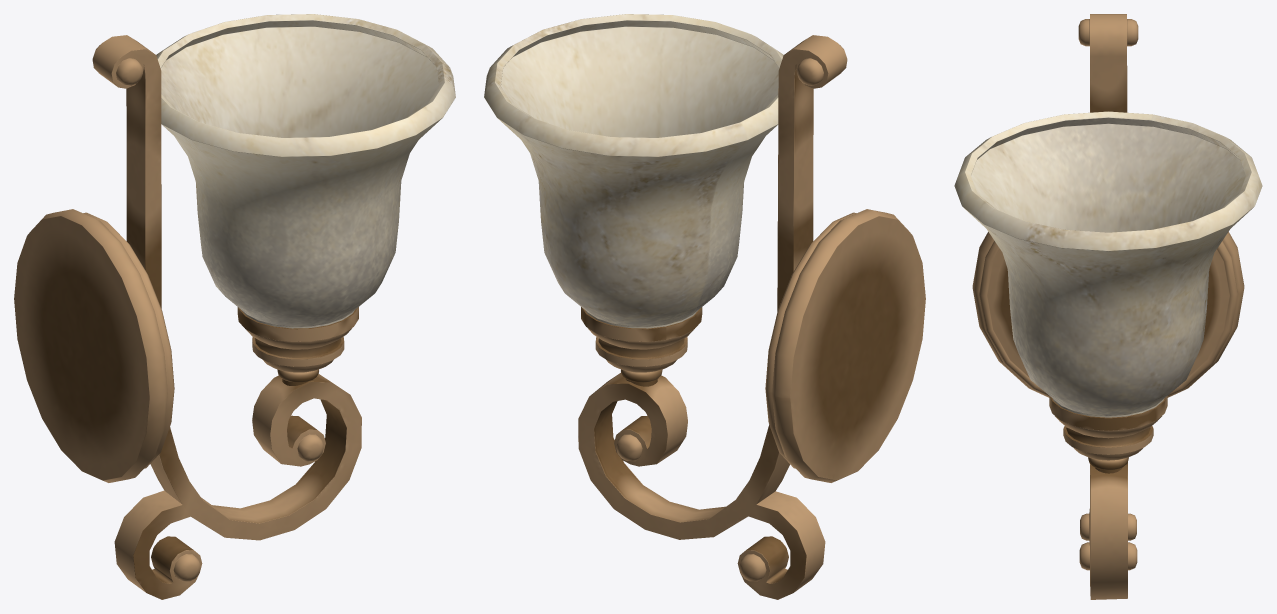
Rendered from lamp_lowpoly.glb.
The picture shows the model from 3 angles, left to right: view 1: azimuth 30°, elevation 25°; view 2: azimuth 150°, elevation 25°; view 3: azimuth 270°, elevation 25°; orthographic projection. The views are drawn at different scales.
Parts seen in each view (by area): view 1: lamp, pCylinder48, pCylinder47, pCylinder42; view 2: lamp, pCylinder48, pCylinder47, pCylinder42; view 3: lamp, pCylinder47, pCylinder48, pCylinder42.
Boxes of the visible parts, x1=… form: lamp: x1=156, y1=14, x2=455, y2=328; pCylinder48: x1=14, y1=209, x2=174, y2=482; pCylinder47: x1=92, y1=35, x2=361, y2=599; pCylinder42: x1=237, y1=307, x2=358, y2=385; lamp: x1=484, y1=14, x2=783, y2=328; pCylinder48: x1=765, y1=209, x2=925, y2=482; pCylinder47: x1=578, y1=35, x2=847, y2=599; pCylinder42: x1=581, y1=307, x2=702, y2=386; lamp: x1=954, y1=111, x2=1262, y2=417; pCylinder47: x1=1078, y1=14, x2=1138, y2=599; pCylinder48: x1=972, y1=232, x2=1244, y2=397; pCylinder42: x1=1049, y1=396, x2=1167, y2=473.
Bounding box in the file's own units: 0.2013 × 0.303 × 0.1563.
1 material, 1 textured.
